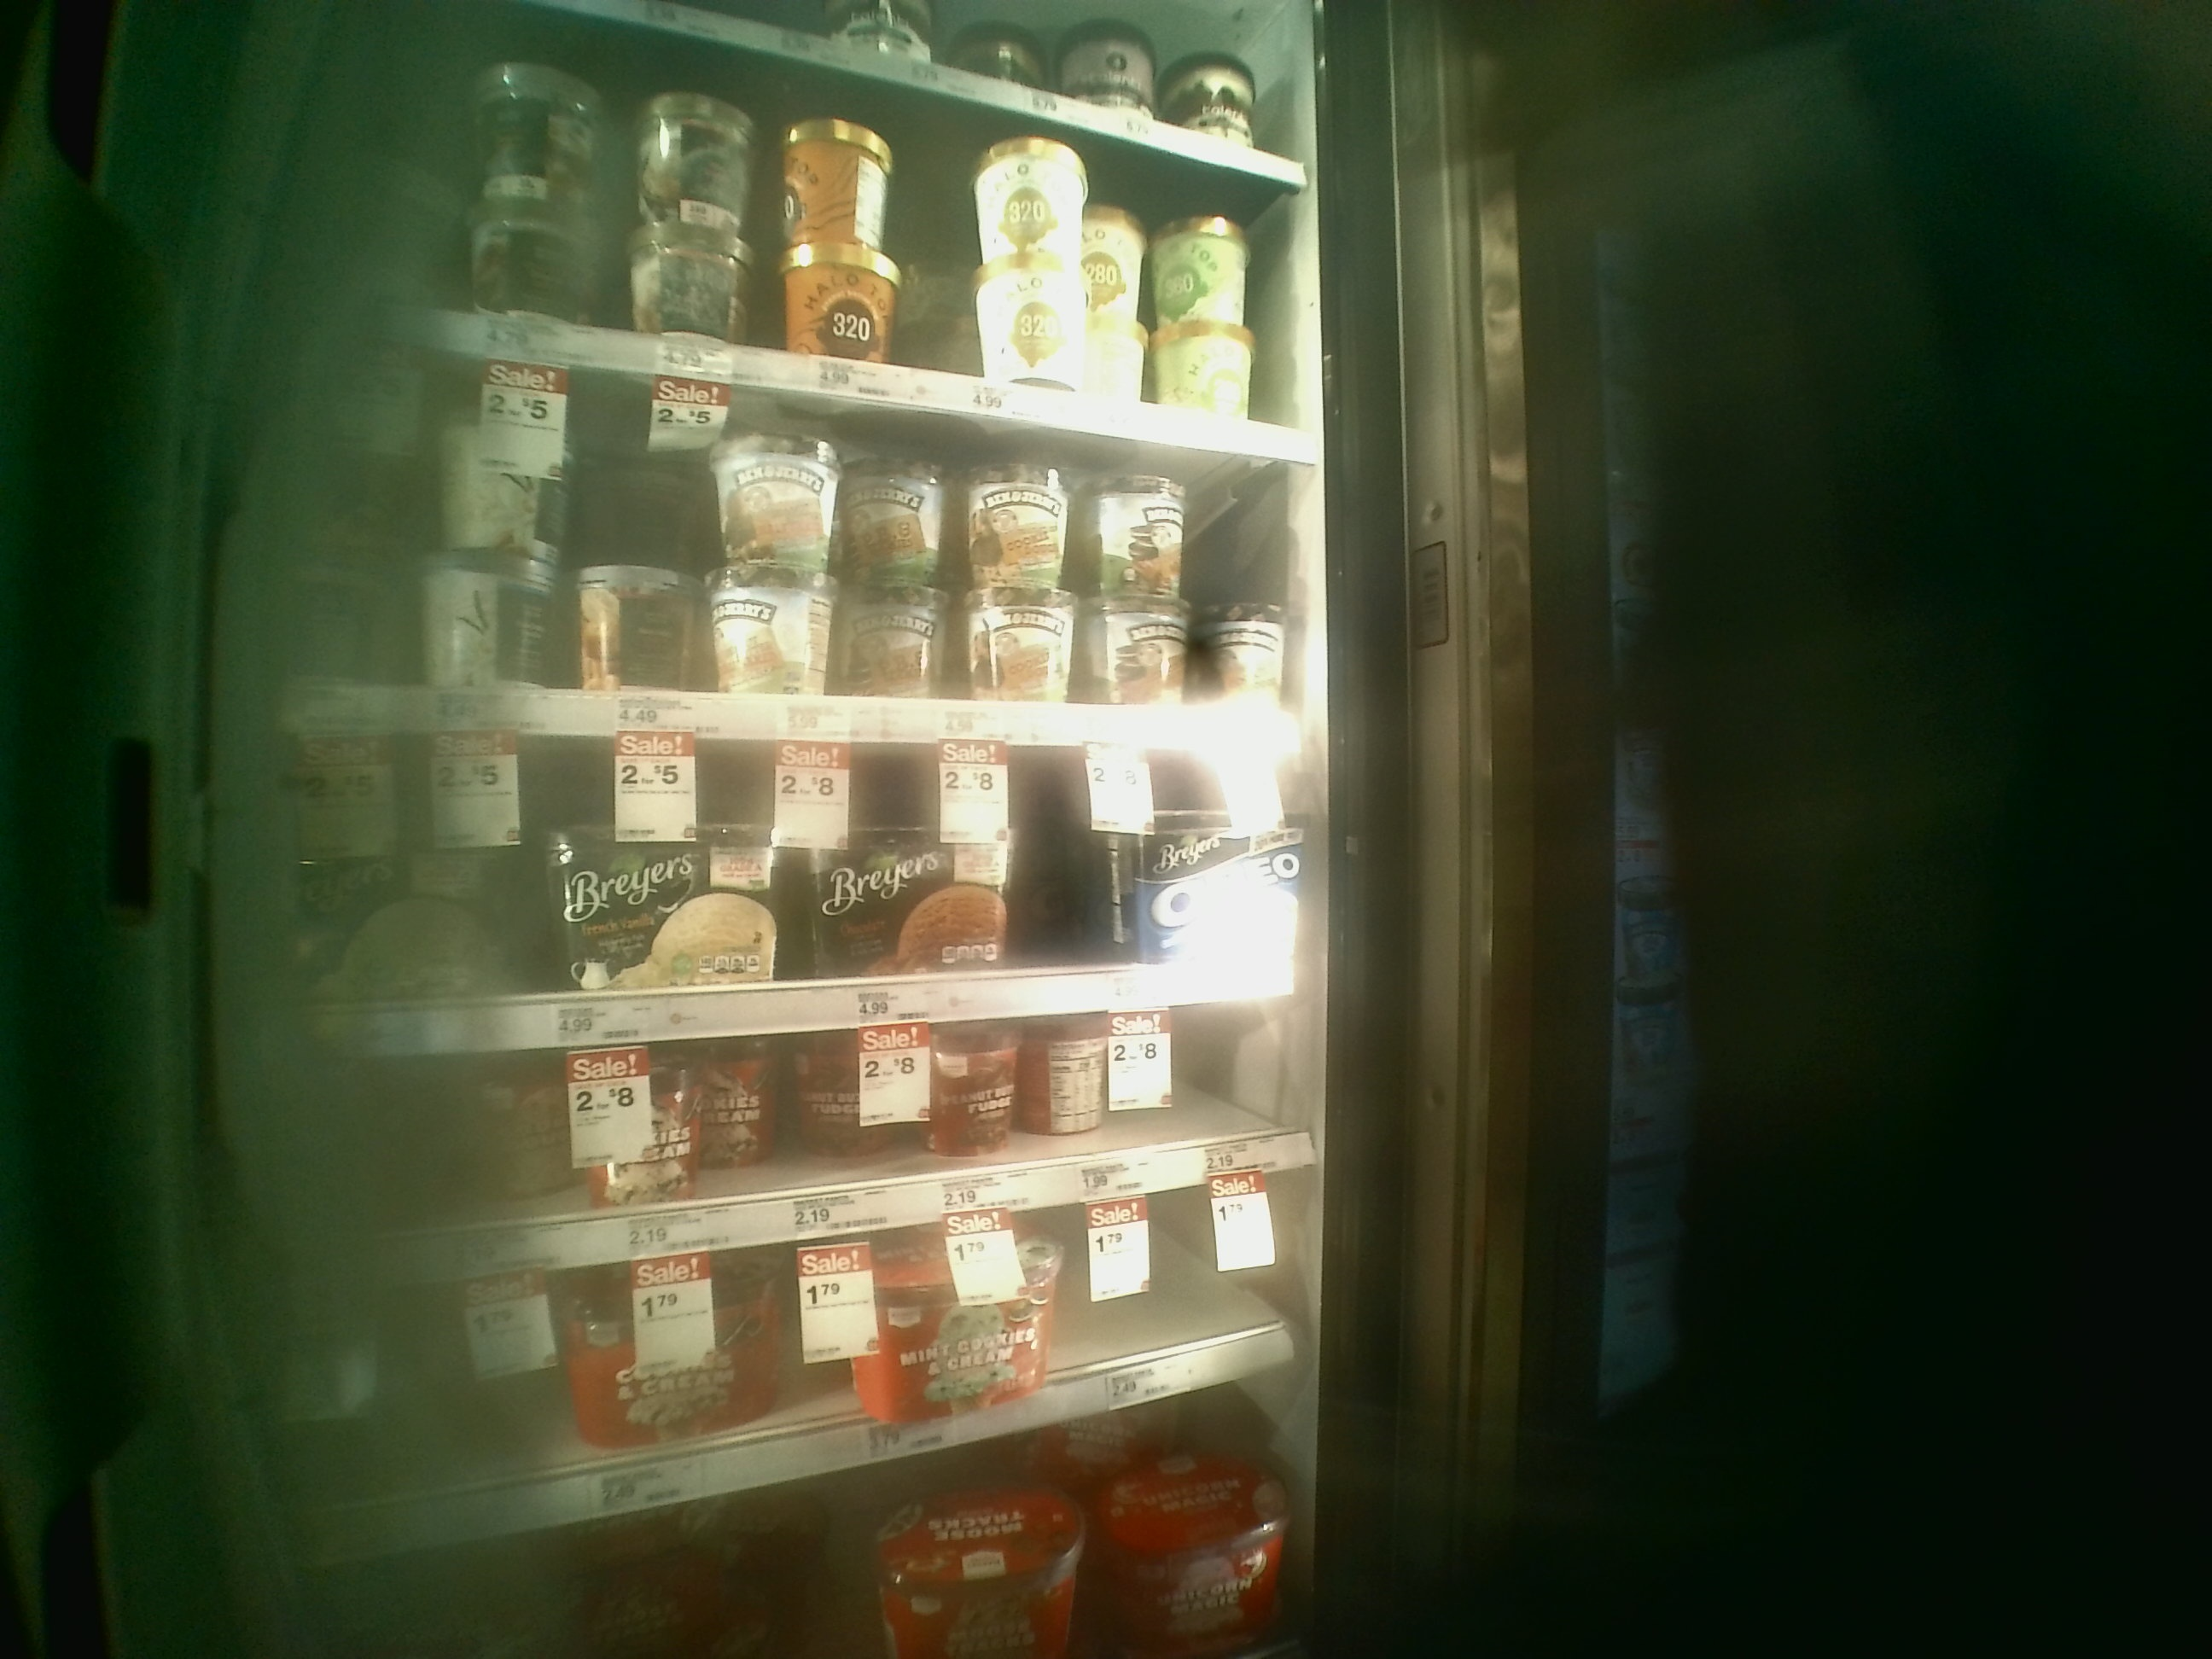shelf: (268, 739, 1327, 1044)
